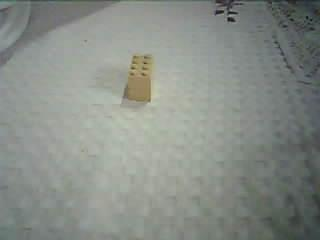lego: (125, 53, 154, 103)
